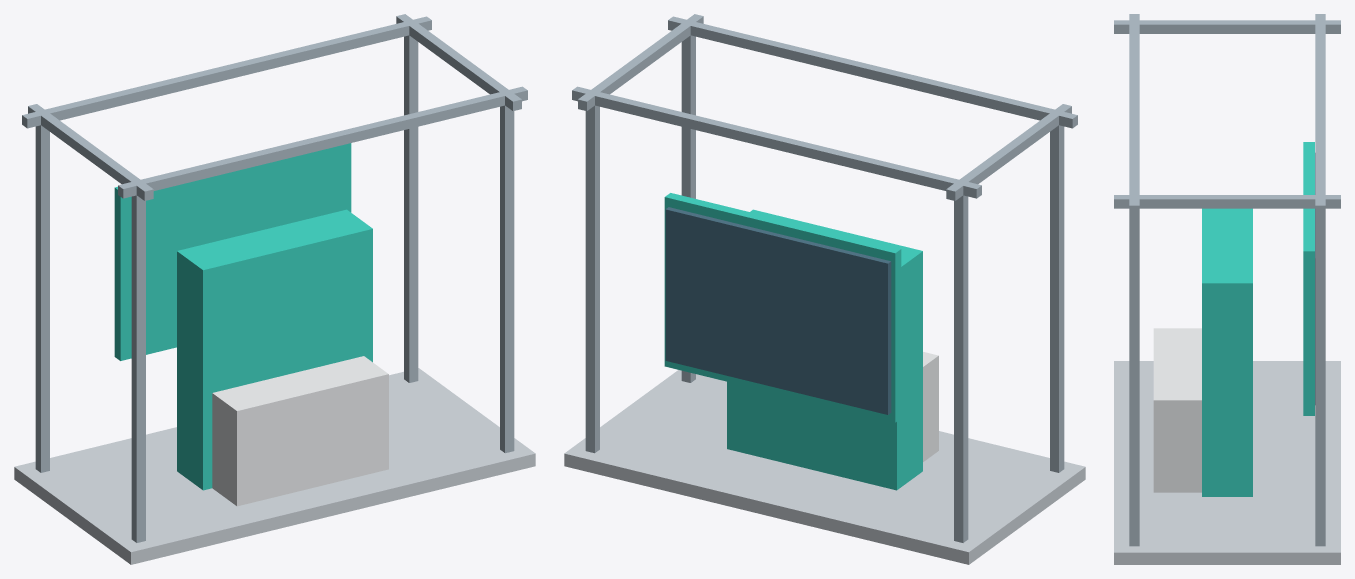
The picture shows the model from 3 angles, left to right: view 1: azimuth 30°, elevation 25°; view 2: azimuth 150°, elevation 25°; view 3: azimuth 270°, elevation 25°; orthographic projection. The views are drawn at different scales.
Visible parts, largest first — view 1: Exhibition Booth Concept; view 2: Exhibition Booth Concept; view 3: Exhibition Booth Concept.
Part boxes in pixels (left/top/right/bottom): Exhibition Booth Concept: left=14, top=14, right=535, bottom=564; Exhibition Booth Concept: left=564, top=14, right=1085, bottom=564; Exhibition Booth Concept: left=1114, top=14, right=1340, bottom=564.
Bounding box in the file's own units: 4 × 3.49 × 2.
